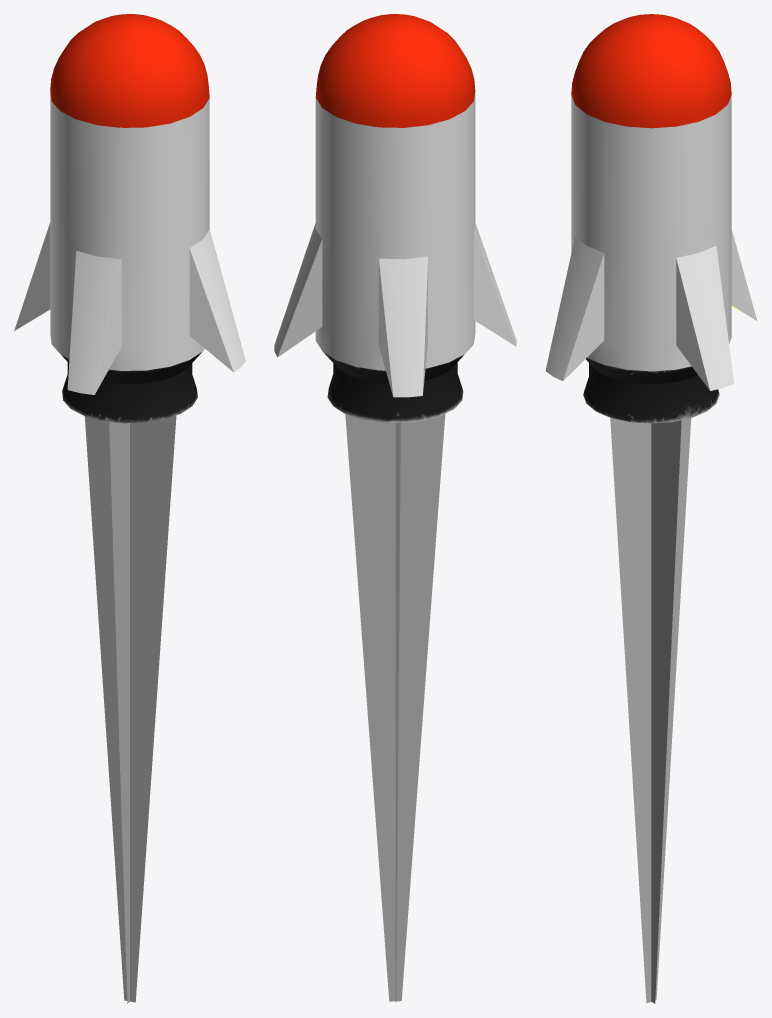
The model's file is Rocket3.fbx.
3 renders of one model, left to right at view 1: azimuth 30°, elevation 25°; view 2: azimuth 150°, elevation 25°; view 3: azimuth 270°, elevation 25°, orthographic.
Visible parts, largest first — view 1: _polySurface1; view 2: _polySurface1; view 3: _polySurface1.
Boxes of the visible parts, left/top/right/bottom form: _polySurface1: left=14, top=14, right=245, bottom=1003; _polySurface1: left=274, top=14, right=516, bottom=1002; _polySurface1: left=545, top=14, right=757, bottom=1003.
Size of the model in its own units: 149 by 759 by 149.
